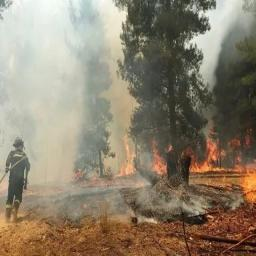Low smoke: (0, 1, 249, 232)
Medium fire: (62, 97, 251, 206)
